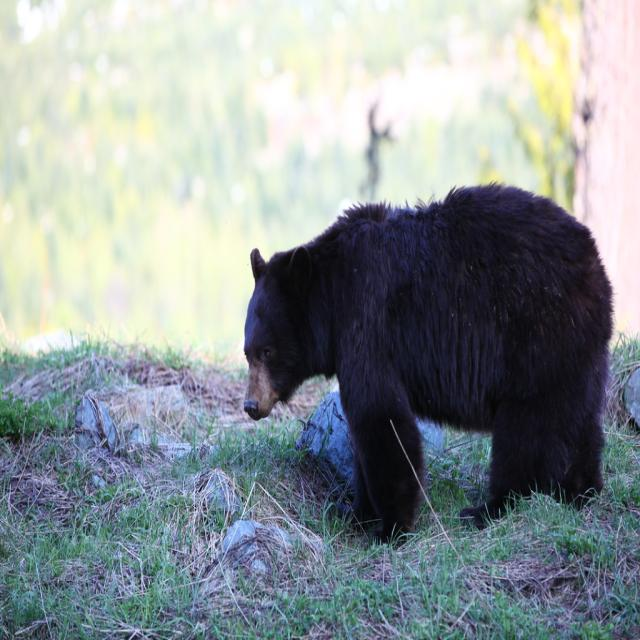Buffalo: (242, 182, 614, 545)
